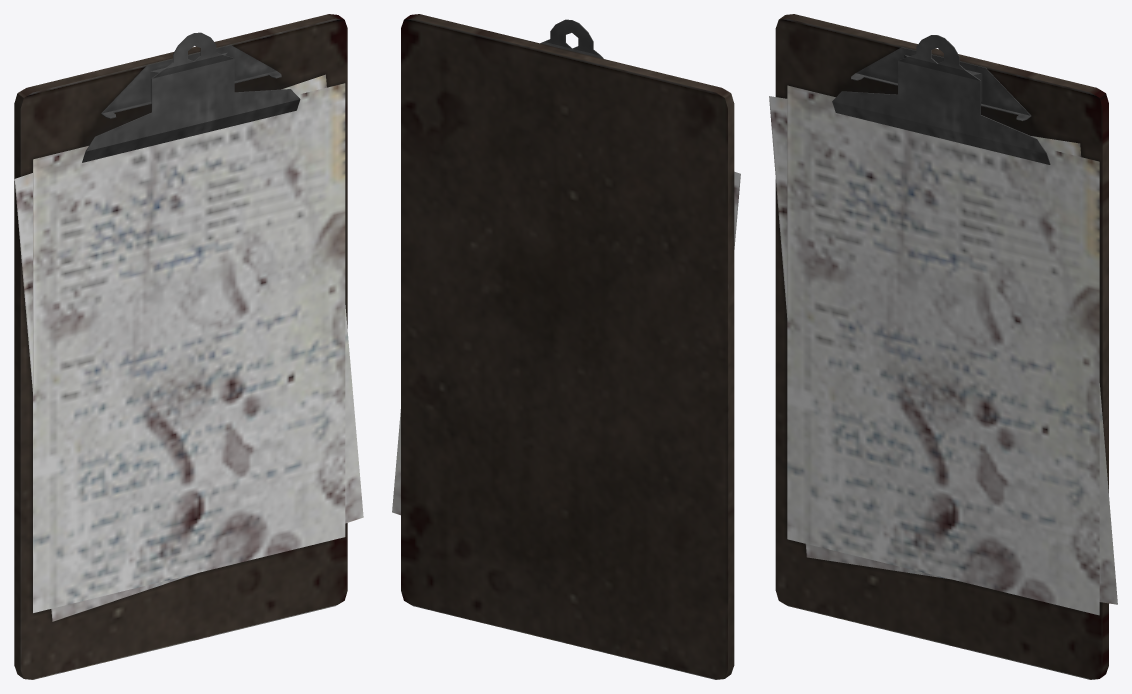
File: ps1_style_patient_sheet_with_clipboard.glb
3 renders of one model, left to right at view 1: azimuth 30°, elevation 25°; view 2: azimuth 150°, elevation 25°; view 3: azimuth 330°, elevation 25°, orthographic.
Visible parts, largest first — view 1: Paper, Clipboard, Plane006, Paper02, Plane007_Metal_0; view 2: Clipboard, Plane006, Paper02; view 3: Paper, Clipboard, Plane006, Paper02, Plane007_Metal_0.
Boxes of the visible parts, left/top/right/bottom form: Paper: left=33, top=83, right=345, bottom=612; Clipboard: left=14, top=14, right=347, bottom=679; Plane006: left=82, top=32, right=300, bottom=162; Paper02: left=14, top=74, right=363, bottom=621; Plane007_Metal_0: left=101, top=45, right=281, bottom=118; Clipboard: left=401, top=14, right=734, bottom=679; Plane006: left=540, top=19, right=603, bottom=58; Paper02: left=392, top=171, right=740, bottom=515; Paper: left=787, top=85, right=1099, bottom=615; Clipboard: left=775, top=14, right=1108, bottom=679; Plane006: left=832, top=35, right=1050, bottom=164; Paper02: left=769, top=96, right=1117, bottom=604; Plane007_Metal_0: left=851, top=47, right=1031, bottom=120.
Size of the model in its own units: 0.2149 by 0.3606 by 0.0146.
Materials: 1 (1 with a texture image).
